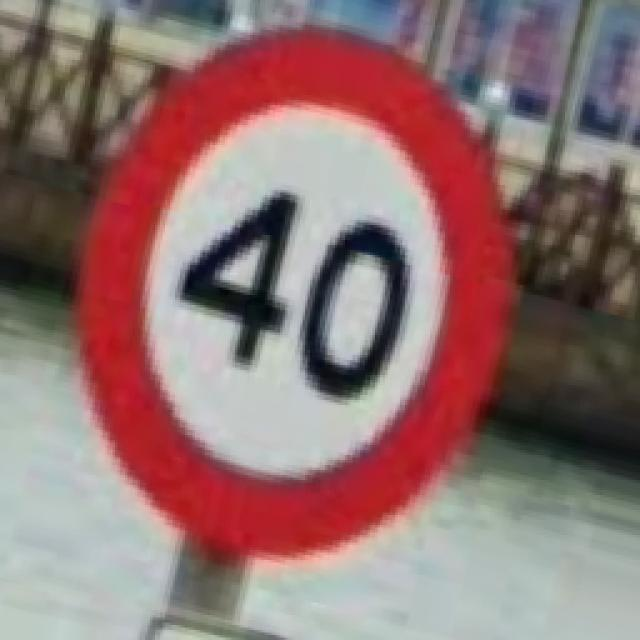Speed Limit -40-: (78, 25, 510, 557)
